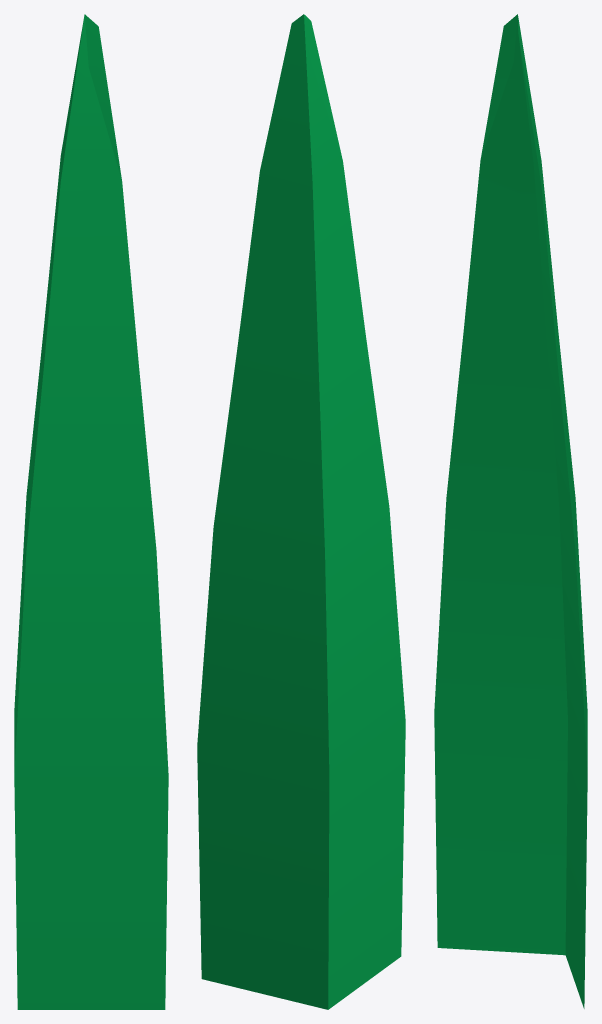
Rendered from GrassLoneer.fbx.
The picture shows the model from 3 angles, left to right: view 1: azimuth 90°, elevation 25°; view 2: azimuth 150°, elevation 25°; view 3: azimuth 270°, elevation 25°; orthographic projection.
Parts seen in each view (by area): view 1: pCube1; view 2: pCube1; view 3: pCube1.
Part boxes in pixels (<box>): pCube1: <box>14,14,168,1009</box>; pCube1: <box>197,14,405,1009</box>; pCube1: <box>434,14,587,1008</box>.
Size of the model in its own units: 1.05 by 7.23 by 1.05.
